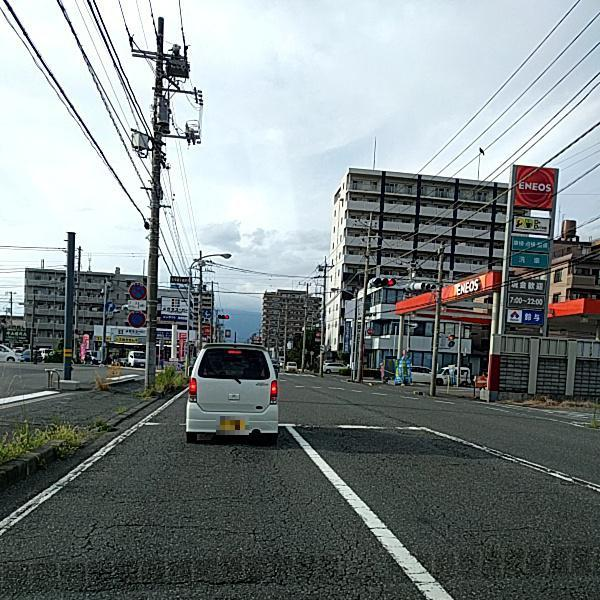D20: (51, 487, 378, 597)
